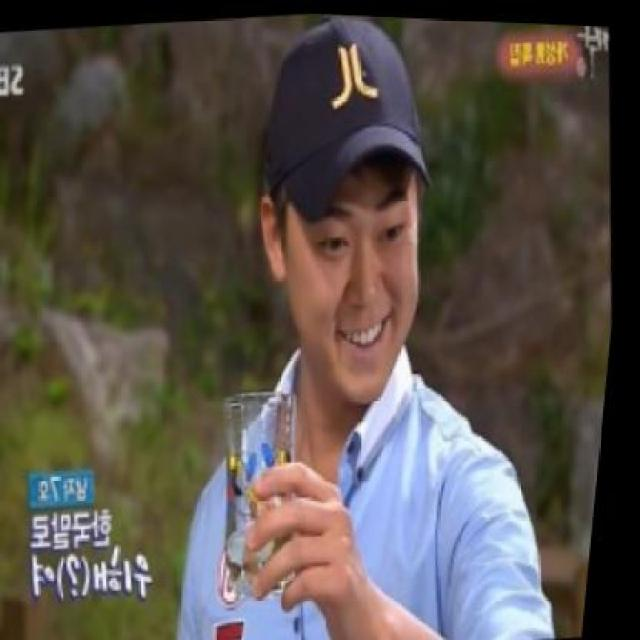hat: (243, 9, 452, 229)
